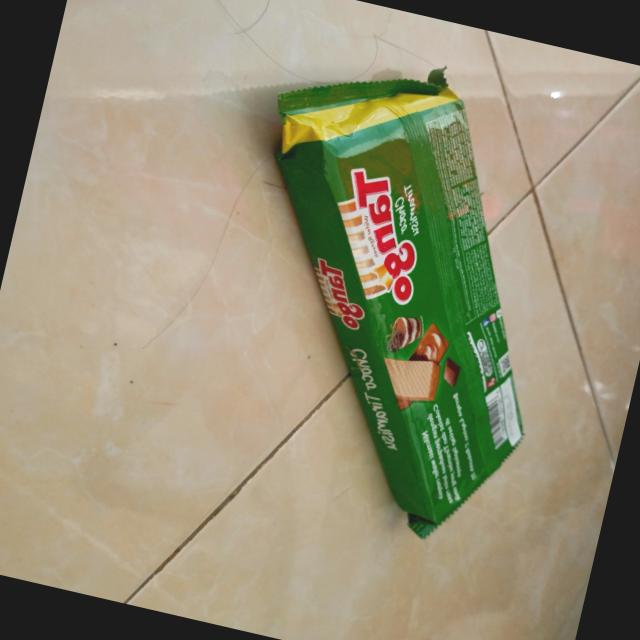tango-tiramisu: (182, 30, 604, 555)
